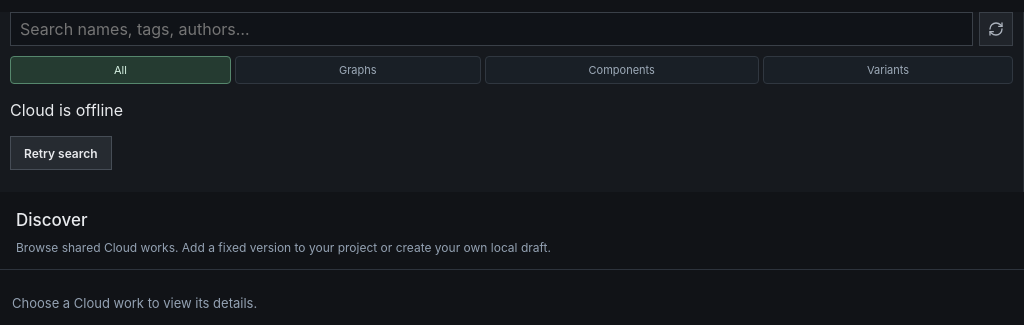
Test: offline search can be retried without changing the search query
Expected: the message reads "Cloud is offline", [10,100,123,120]
Step 1. Click the button "Retry search" → (61, 153), box [10,136,112,170]
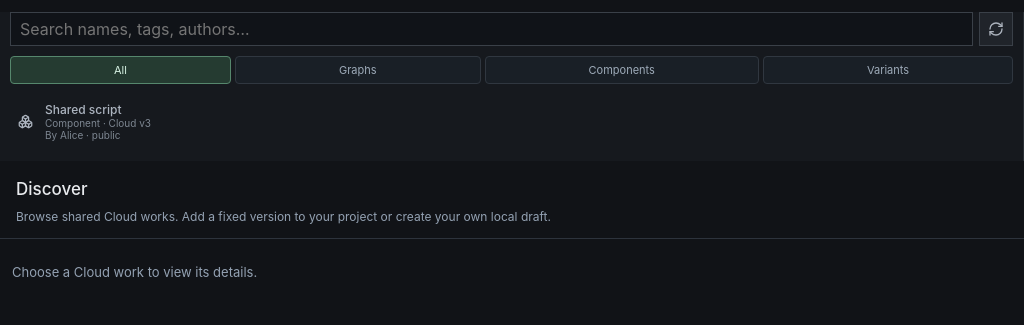
Expected: the button "Shared script Component · Cloud v3 By Alice · public" is shown, [10,94,1013,149]
Expected: the message "Cloud is offline" is gone
